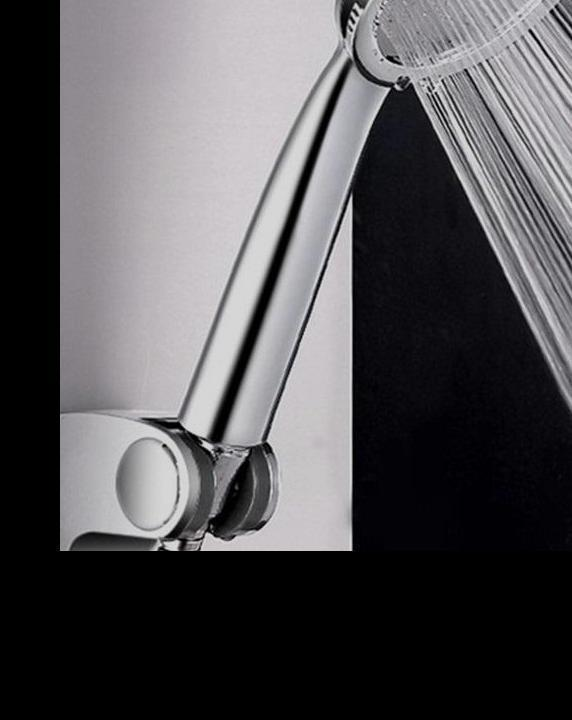Ducha: (60, 0, 572, 550)
